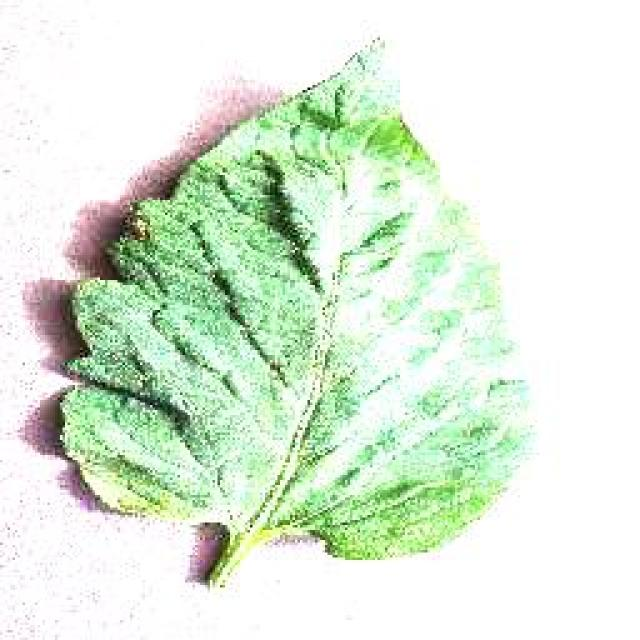Tomato___Target_Spot: (60, 40, 530, 582)
